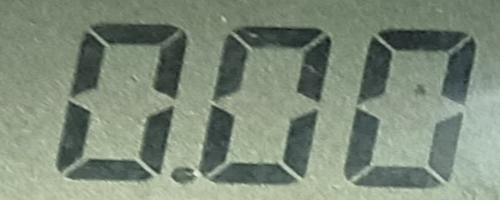.: (168, 164, 198, 183)
